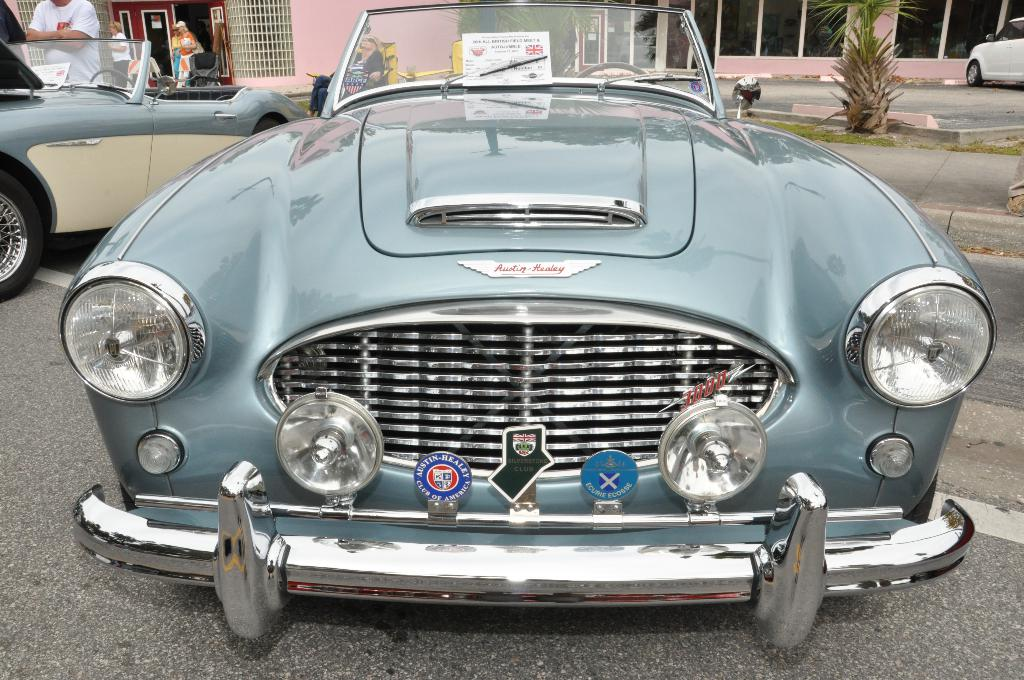Car: (57, 0, 997, 648), (0, 0, 302, 305), (964, 16, 1024, 86)
